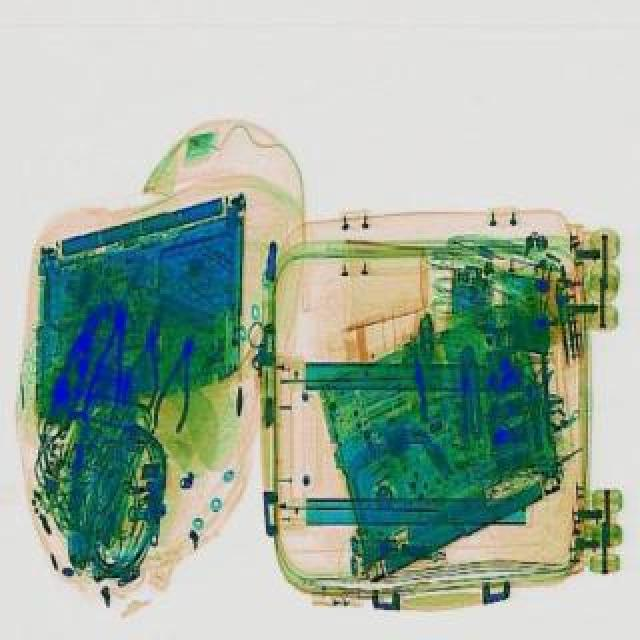wrench: (76, 296, 144, 426), (114, 306, 178, 414), (148, 326, 208, 430)
